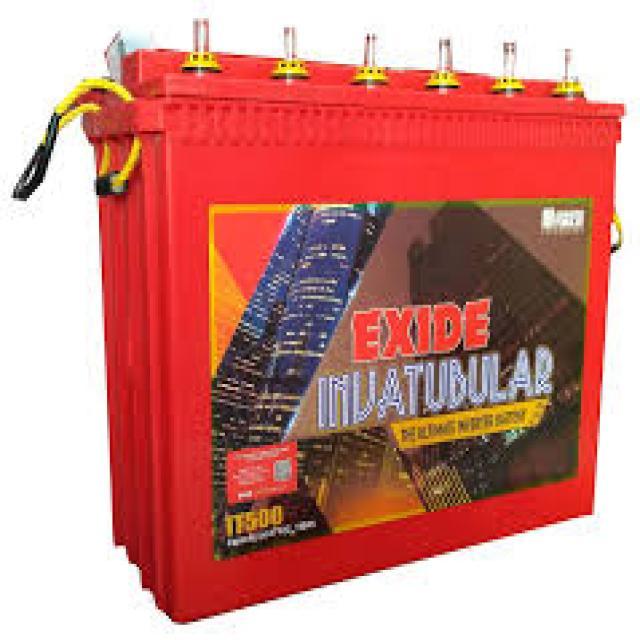Battery: (24, 37, 624, 628)
